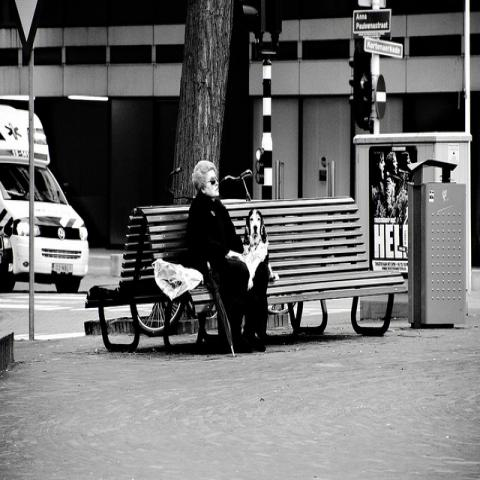truck: (0, 105, 91, 294)
